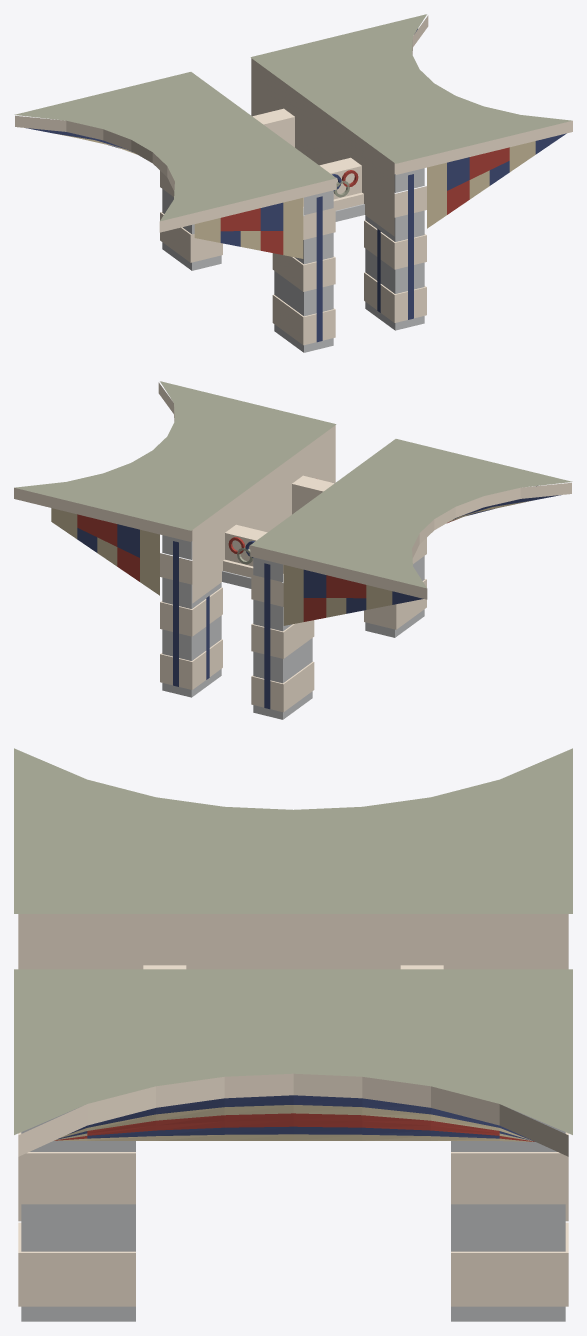
File: seoul-world-peace-gate.glb
3 renders of one model, top to bottom at view 1: azimuth 30°, elevation 25°; view 2: azimuth 150°, elevation 25°; view 3: azimuth 270°, elevation 25°, orthographic. The views are drawn at different scales.
Visible parts, largest first — view 1: World Peace Gate; view 2: World Peace Gate; view 3: World Peace Gate.
Boxes of the visible parts, left/top/right/bottom form: World Peace Gate: left=14, top=14, right=572, bottom=352; World Peace Gate: left=14, top=381, right=572, bottom=719; World Peace Gate: left=14, top=748, right=572, bottom=1321.
Size of the model in its own units: 61.6 by 24 by 37.6.
